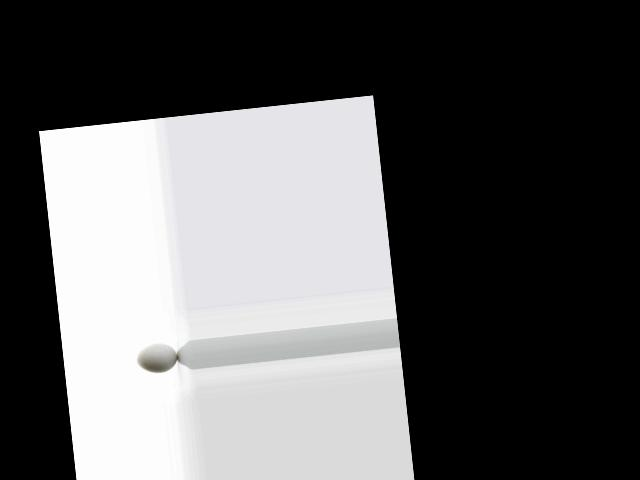egg: (135, 342, 178, 374)
